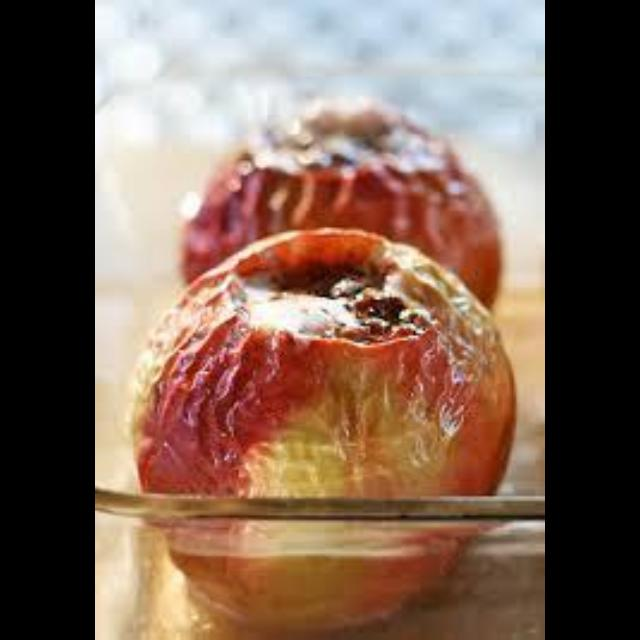apple: (133, 228, 514, 494), (184, 101, 498, 304)
